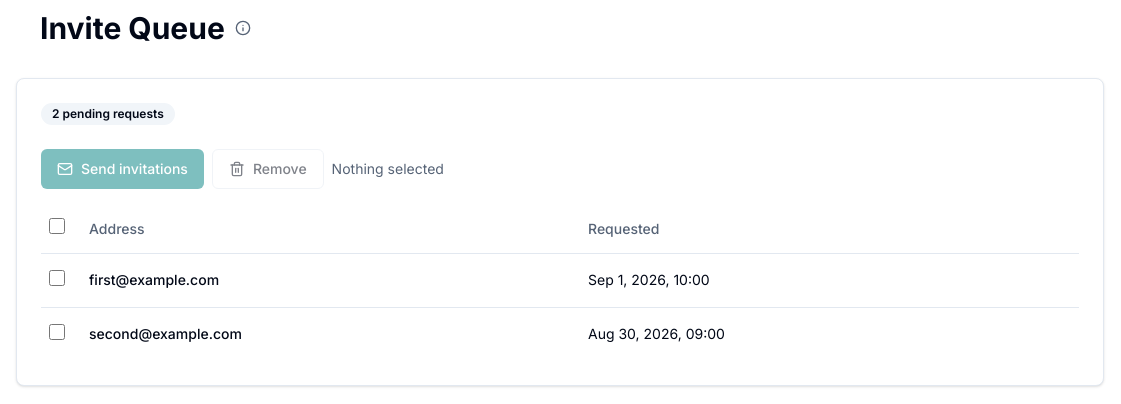
Test case: the invite queue › selects and clears every row on the page at once
Expected: the text "first@example.com" is shown, top-left (81, 253), bottom-right (580, 307)
Click the checkbox named "Select a batch of requests, or clear the selection" at point(57, 226), box top-left (49, 218), bottom-right (65, 234)
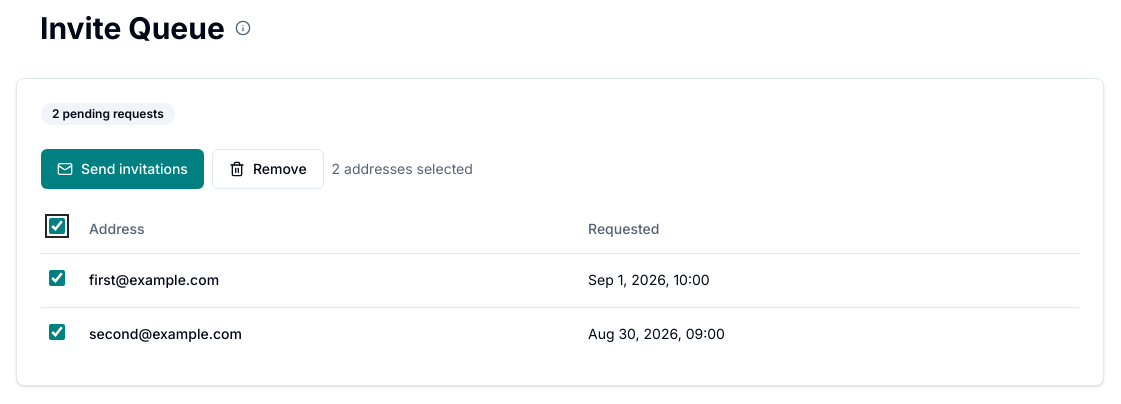
Expected: the checkbox named "Select first@example.com" is checked, top-left (49, 270), bottom-right (65, 286)
Click the checkbox named "Select a batch of requests, or clear the selection" at point(57, 226), box top-left (49, 218), bottom-right (65, 234)
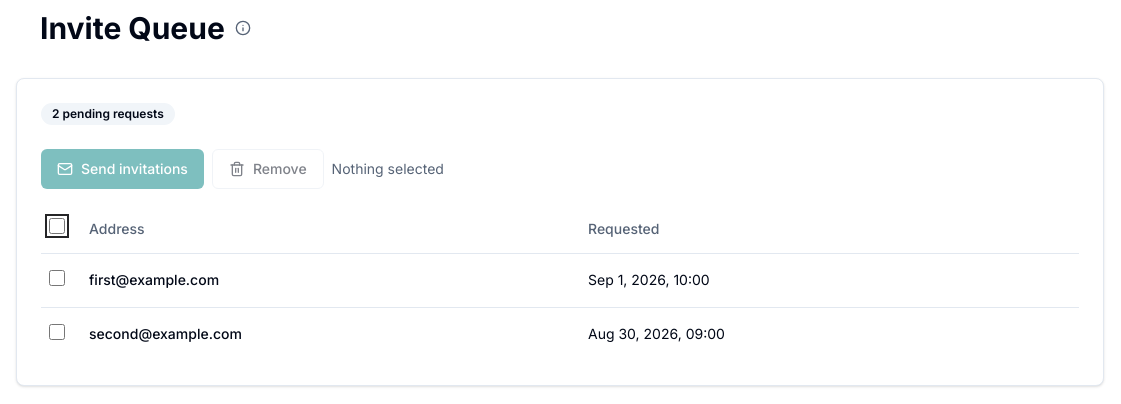
Expected: the checkbox named "Select first@example.com" is not checked, top-left (49, 270), bottom-right (65, 286)
